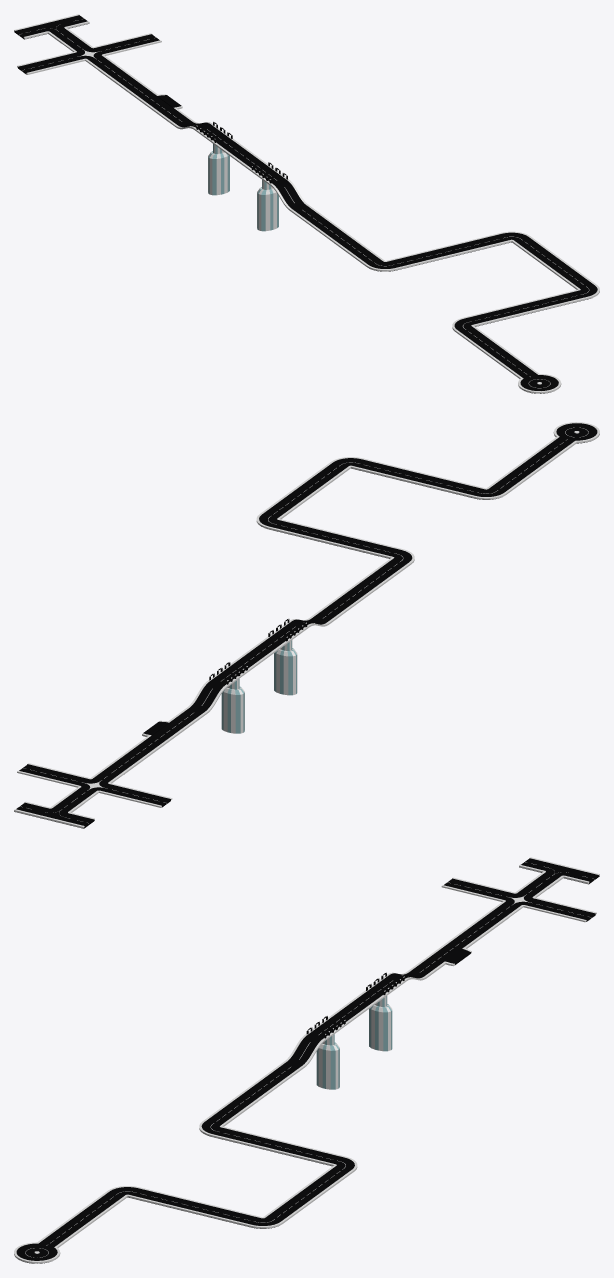
Rendered from Road_module.fbx.
The picture shows the model from 3 angles, top to bottom: view 1: azimuth 30°, elevation 25°; view 2: azimuth 150°, elevation 25°; view 3: azimuth 330°, elevation 25°; orthographic projection. The views are drawn at different scales.
Parts seen in each view (by area): view 1: Plane.036, Plane.039, Plane.047, Plane.048, Plane.046, Plane.040, Plane.044, Plane.038, Cube.110, Cube.111, Plane.043, Plane.041 (+3 smaller); view 2: Plane.036, Plane.046, Plane.047, Plane.048, Plane.039, Plane.040, Plane.043, Plane.038, Cube.111, Cube.110, Plane.044, Plane.041 (+3 smaller); view 3: Plane.036, Plane.048, Plane.039, Plane.046, Plane.047, Plane.040, Plane.044, Plane.038, Cube.110, Cube.111, Plane.043, Plane.041 (+3 smaller).
Boxes of the visible parts, x1,y1,x2,y2 form: Plane.036: [17, 33, 161, 74]; Plane.039: [333, 236, 453, 271]; Plane.047: [443, 231, 563, 266]; Plane.048: [521, 260, 599, 313]; Plane.046: [452, 303, 531, 355]; Plane.040: [488, 350, 561, 393]; Plane.044: [249, 162, 318, 217]; Plane.038: [14, 14, 89, 43]; Cube.110: [208, 144, 229, 195]; Cube.111: [257, 180, 278, 231]; Plane.043: [165, 114, 234, 145]; Plane.041: [132, 89, 183, 119]; Plane.036: [17, 763, 172, 807]; Plane.046: [413, 462, 541, 499]; Plane.047: [256, 488, 340, 544]; Plane.048: [296, 457, 423, 493]; Plane.039: [330, 534, 414, 589]; Plane.040: [522, 422, 599, 468]; Plane.043: [176, 661, 250, 721]; Plane.038: [14, 797, 94, 828]; Cube.111: [274, 640, 297, 695]; Cube.110: [221, 678, 244, 733]; Plane.044: [266, 610, 340, 644]; Plane.041: [141, 715, 196, 747]; Plane.036: [441, 877, 596, 922]; Plane.048: [189, 1191, 318, 1228]; Plane.039: [199, 1095, 283, 1151]; Plane.046: [72, 1186, 200, 1222]; Plane.047: [272, 1141, 357, 1197]; Plane.040: [14, 1217, 91, 1263]; Plane.044: [274, 1015, 347, 1075]; Plane.038: [519, 857, 599, 888]; Cube.110: [369, 996, 392, 1051]; Cube.111: [316, 1034, 339, 1089]; Plane.043: [364, 964, 437, 997]; Plane.041: [418, 937, 473, 969].
Size of the model in its own units: 81.1 by 21.31 by 336.
